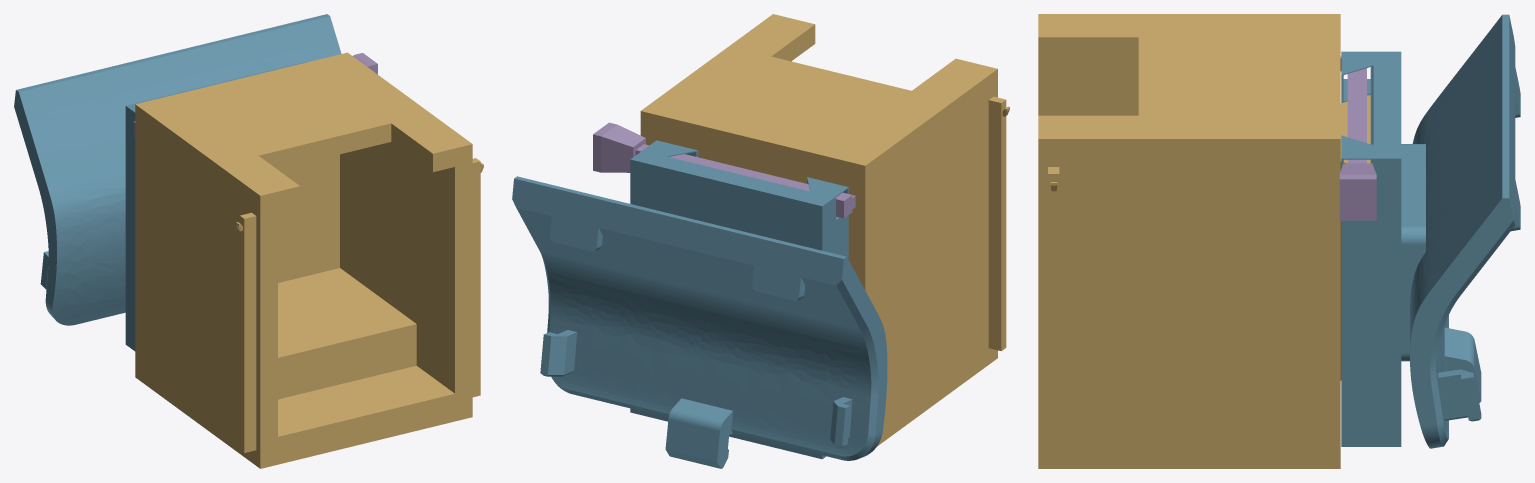
Rendered from Vader5Pro_V22_Assembly_USB_Down_Inspection.glb.
The picture shows the model from 3 angles, left to right: view 1: azimuth 30°, elevation 25°; view 2: azimuth 150°, elevation 25°; view 3: azimuth 270°, elevation 25°; orthographic projection. The views are drawn at different scales.
Parts seen in each view (by area): view 1: G7_V22_Box2_USB_Down, Original_Vader5Pro_Cover_with_G7_V22_Receiver; view 2: Original_Vader5Pro_Cover_with_G7_V22_Receiver, G7_V22_Box2_USB_Down, G7_V22_Lock_Key; view 3: G7_V22_Box2_USB_Down, Original_Vader5Pro_Cover_with_G7_V22_Receiver, G7_V22_Lock_Key.
Boxes of the visible parts, box(x1,y1,x2,y2) form: G7_V22_Box2_USB_Down: box(135, 52, 483, 468); Original_Vader5Pro_Cover_with_G7_V22_Receiver: box(14, 14, 341, 351); Original_Vader5Pro_Cover_with_G7_V22_Receiver: box(512, 140, 887, 468); G7_V22_Box2_USB_Down: box(640, 14, 1009, 446); G7_V22_Lock_Key: box(593, 122, 855, 218); G7_V22_Box2_USB_Down: box(1038, 14, 1370, 468); Original_Vader5Pro_Cover_with_G7_V22_Receiver: box(1341, 14, 1520, 448); G7_V22_Lock_Key: box(1339, 56, 1376, 220).
Bounding box in the file's own units: 35.2 × 29.5 × 39.1.
